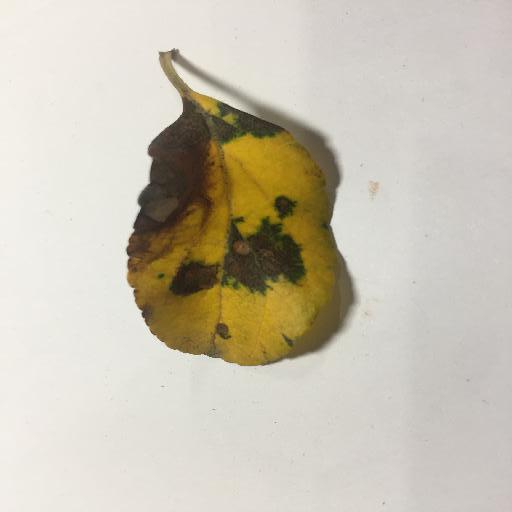Brown_Spot: (147, 120, 196, 234), (227, 238, 303, 278), (177, 266, 230, 297), (268, 196, 305, 220), (218, 324, 238, 341)
